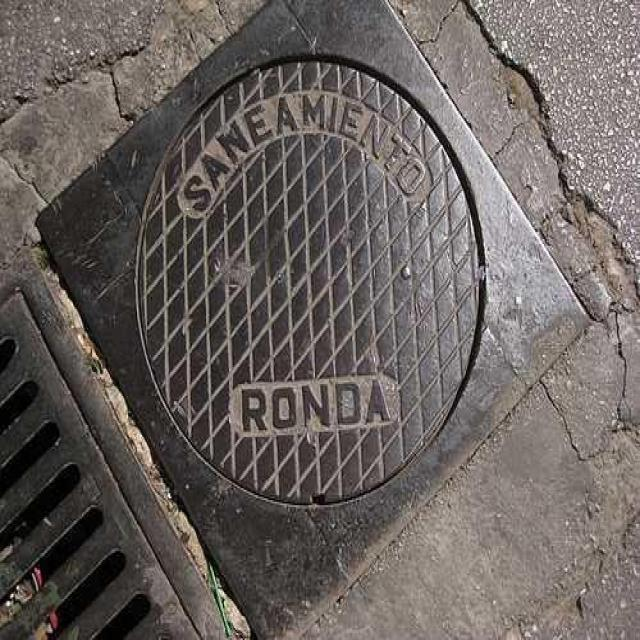manhole: (38, 2, 587, 636)
